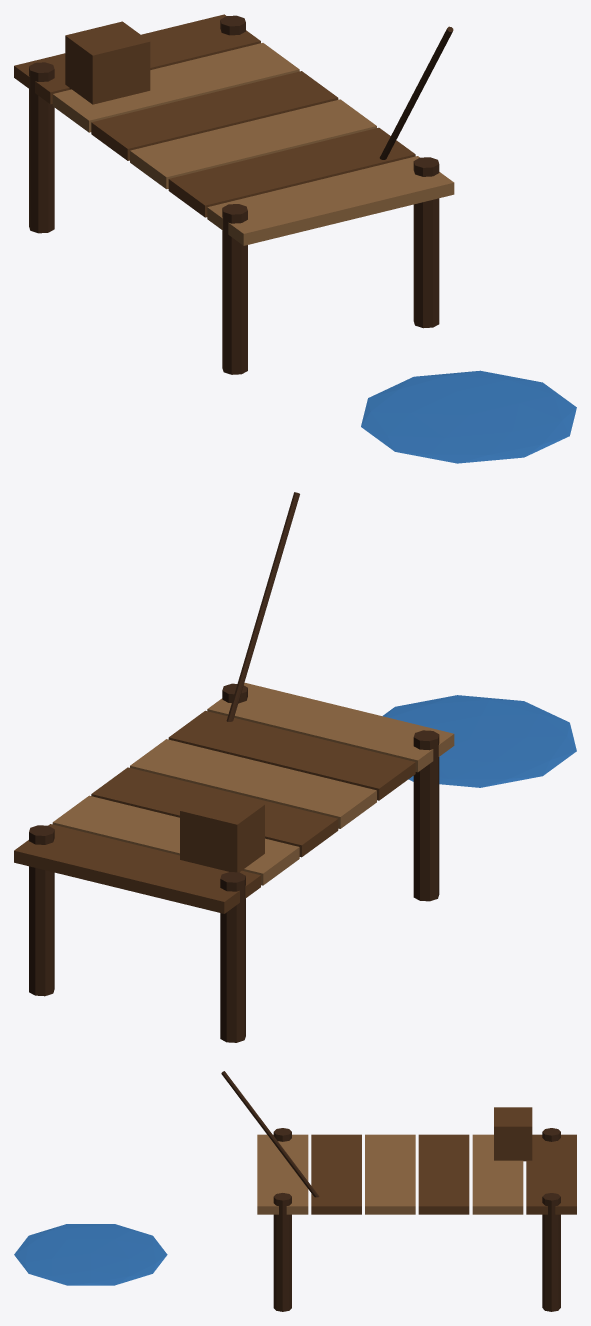
The model's file is SM_GZ_res_fish.fbx.
3 renders of one model, top to bottom at view 1: azimuth 30°, elevation 25°; view 2: azimuth 150°, elevation 25°; view 3: azimuth 270°, elevation 25°, orthographic. The views are drawn at different scales.
Parts seen in each view (by area): view 1: SM_GZ_res_fish; view 2: SM_GZ_res_fish; view 3: SM_GZ_res_fish.
Part boxes in pixels (box(x1,y1,x2,y2)): SM_GZ_res_fish: box(14, 14, 576, 463); SM_GZ_res_fish: box(14, 492, 576, 1042); SM_GZ_res_fish: box(14, 1071, 576, 1311).
Bounding box in the file's own units: 224 × 331 × 733.
